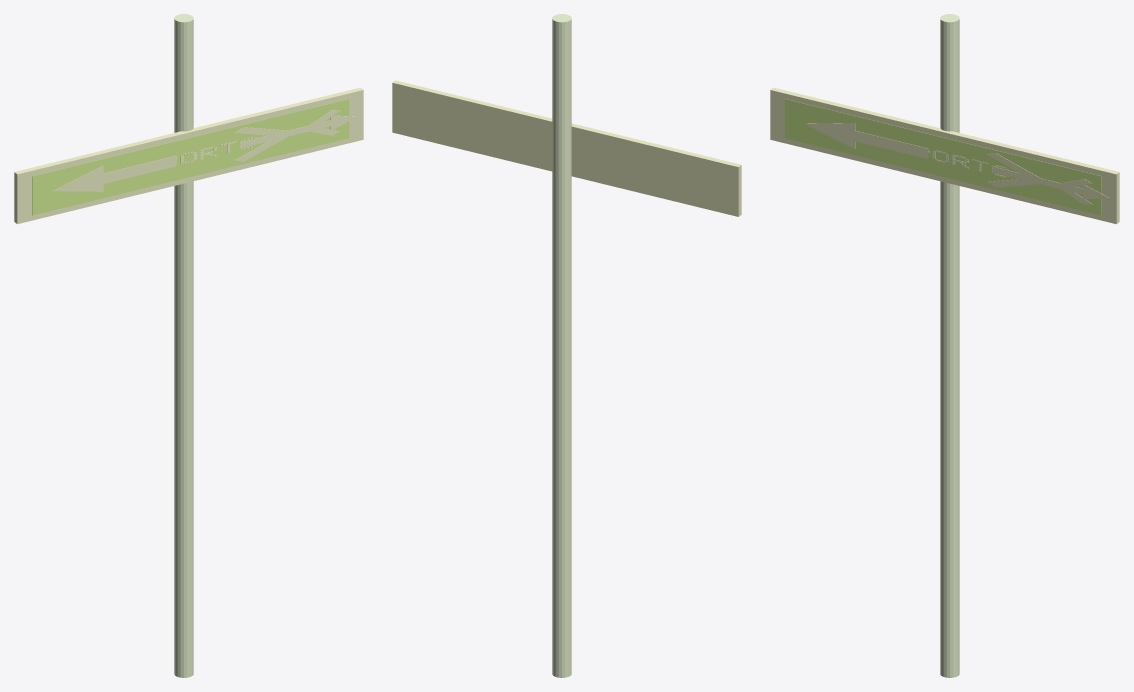
File: sign_aeroporto_arrow_left.glb
3 renders of one model, left to right at view 1: azimuth 30°, elevation 25°; view 2: azimuth 150°, elevation 25°; view 3: azimuth 330°, elevation 25°, orthographic.
Visible parts, largest first — view 1: pole, layer_1_00, plate_base_00, layer_2_150, layer_2_151, layer_2_00; view 2: plate_base_00, pole; view 3: pole, layer_1_00, plate_base_00, layer_2_150, layer_2_00, layer_2_151.
Part boxes in pixels (x1=…): pole: x1=174, y1=14, x2=193, y2=677; layer_1_00: x1=32, y1=99, x2=349, y2=215; plate_base_00: x1=14, y1=87, x2=363, y2=224; layer_2_150: x1=103, y1=155, x2=176, y2=183; layer_2_151: x1=52, y1=165, x2=103, y2=191; layer_2_00: x1=242, y1=117, x2=344, y2=147; plate_base_00: x1=392, y1=80, x2=741, y2=216; pole: x1=552, y1=14, x2=571, y2=677; pole: x1=940, y1=14, x2=959, y2=677; layer_1_00: x1=784, y1=99, x2=1101, y2=215; plate_base_00: x1=770, y1=87, x2=1119, y2=224; layer_2_150: x1=855, y1=130, x2=928, y2=158; layer_2_00: x1=993, y1=167, x2=1096, y2=197; layer_2_151: x1=805, y1=123, x2=855, y2=148.
Size of the model in its own units: 1.22 by 2.2 by 0.0725.
